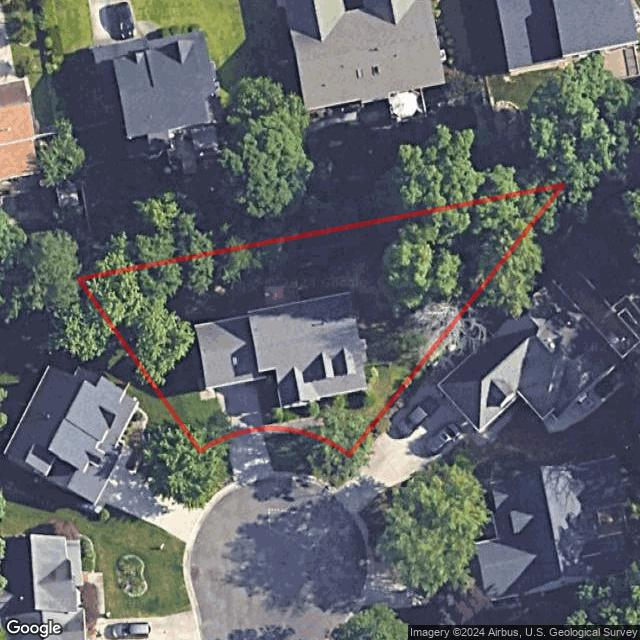Driveway: (198, 381, 263, 437)
Extra-Driveway: (229, 427, 273, 479)
Extra-Lawn: (265, 430, 351, 485)
Extra-Sidewalk: (263, 426, 299, 436)
House: (194, 292, 368, 409)
Lawn: (78, 185, 562, 453)
Sidewalk: (264, 399, 325, 429)
